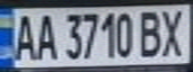0: (115, 9, 139, 58)
1: (100, 9, 118, 58)
3: (60, 9, 84, 61)
7: (81, 10, 100, 60)
A: (9, 10, 39, 62), (33, 10, 57, 61)
B: (136, 7, 166, 57)
X: (157, 6, 190, 57)
